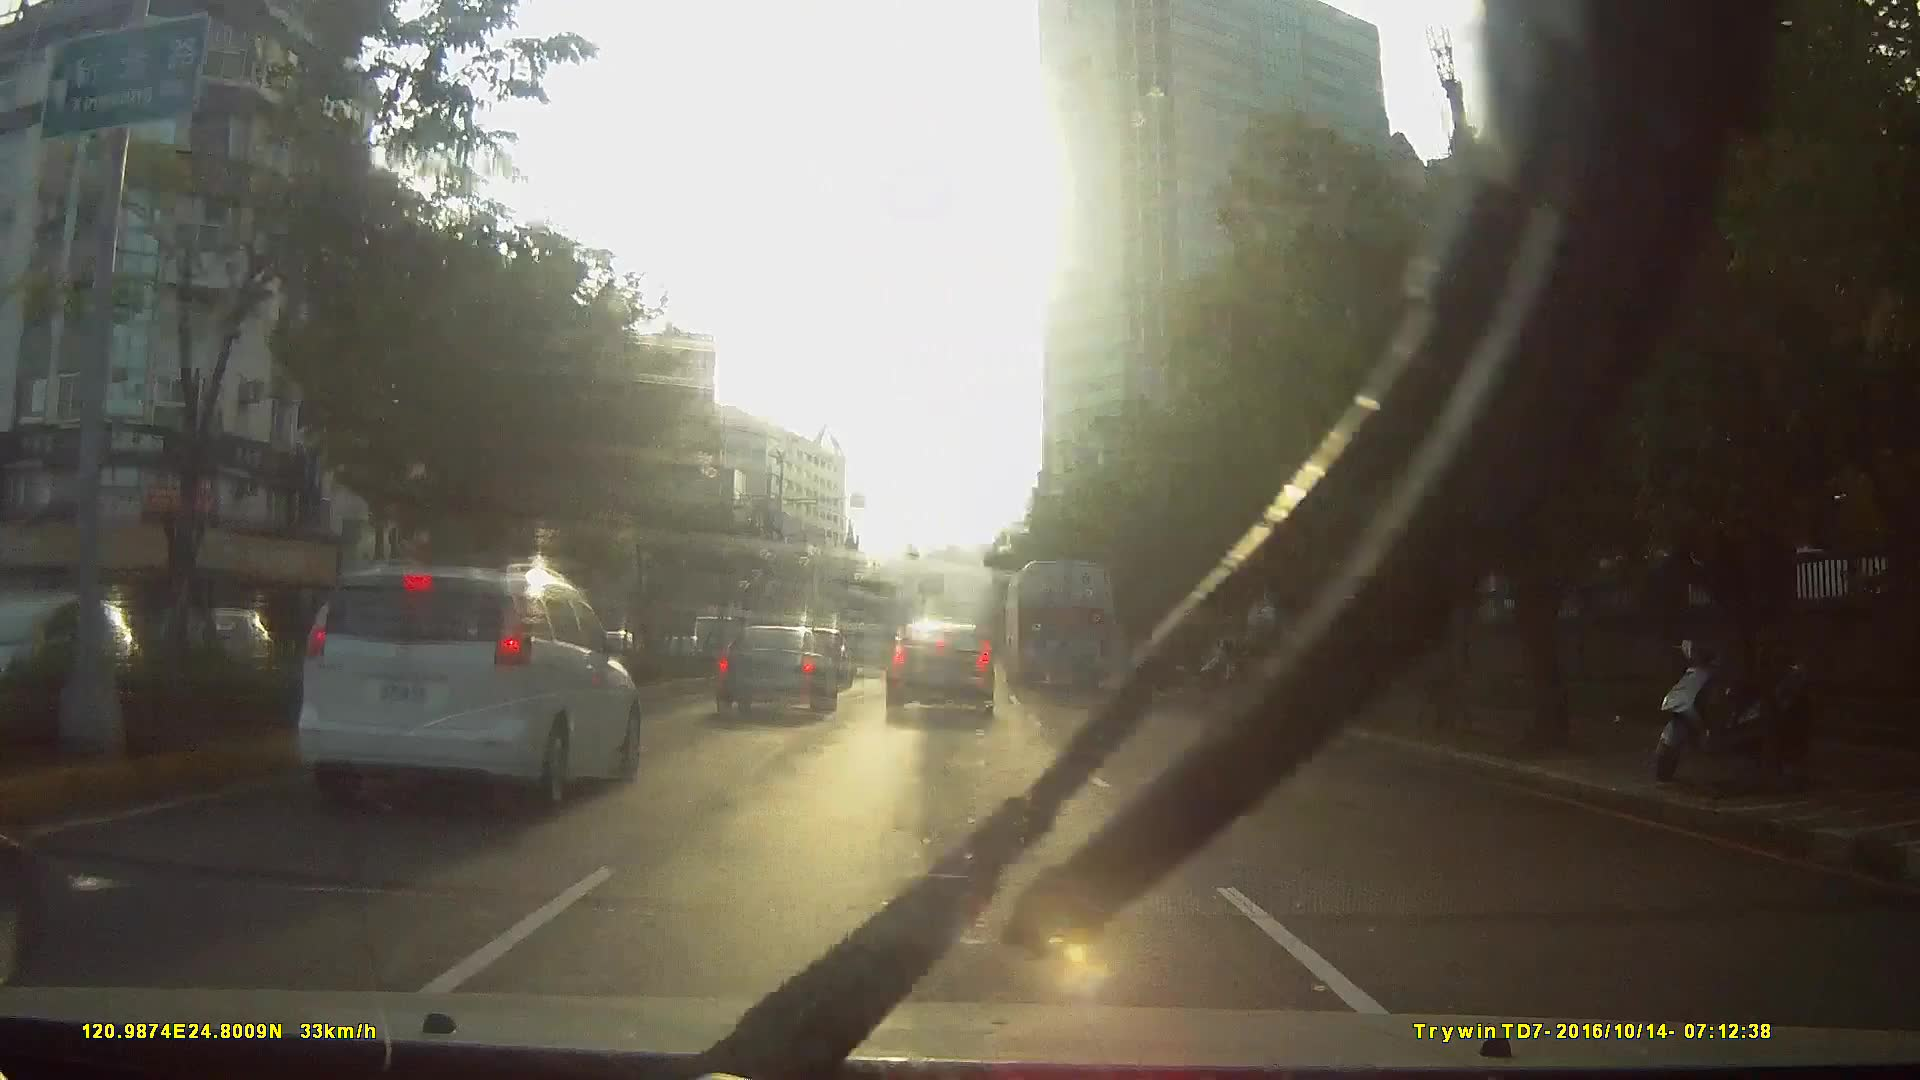vehicle: (251, 556, 684, 868), (284, 556, 651, 818), (1007, 553, 1116, 684), (712, 620, 837, 717), (885, 615, 997, 719), (848, 621, 899, 673)
